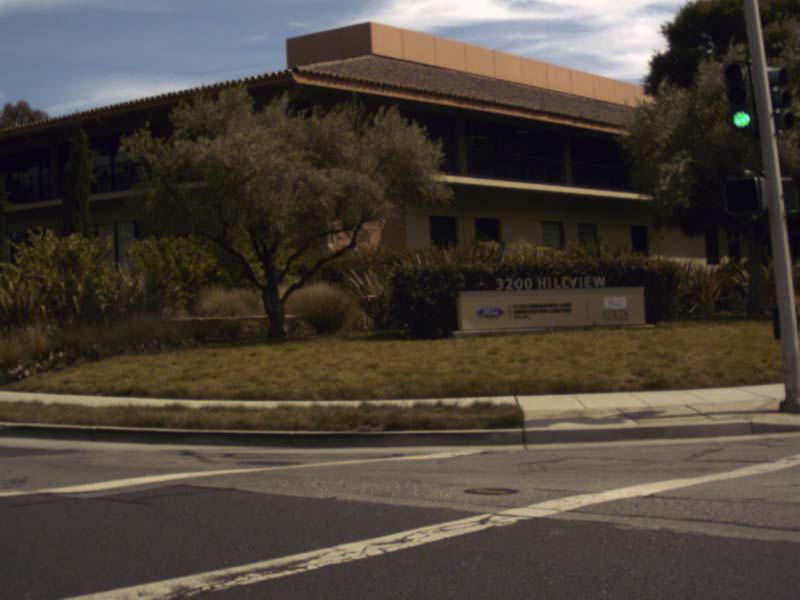Green: (724, 66, 753, 129)
